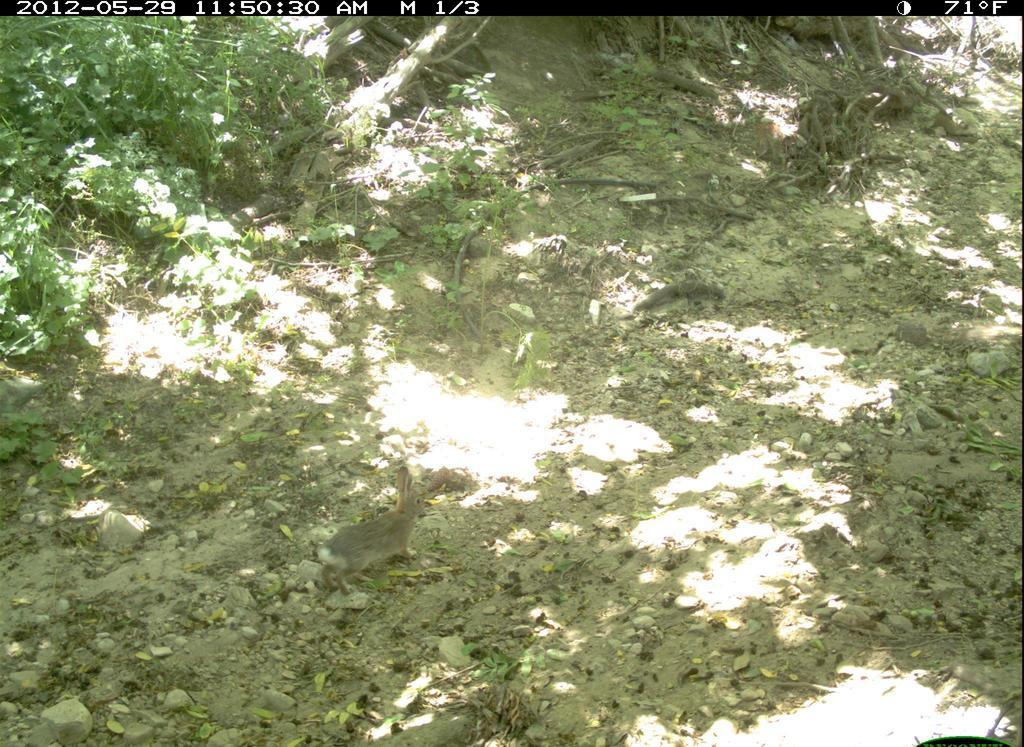rabbit: (306, 459, 457, 605)
